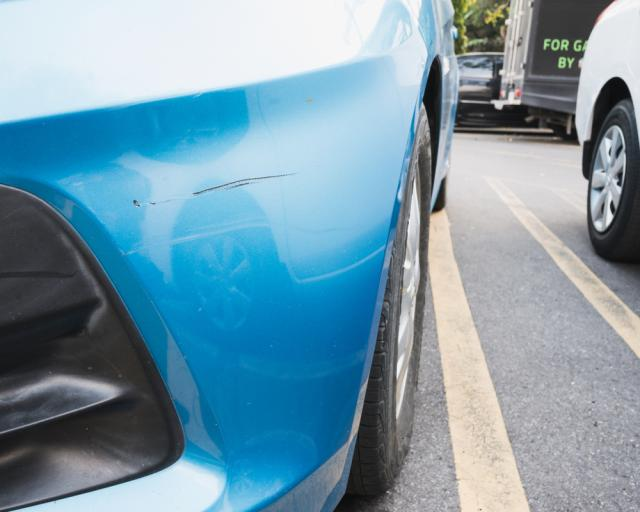scratch: (137, 166, 303, 208)
